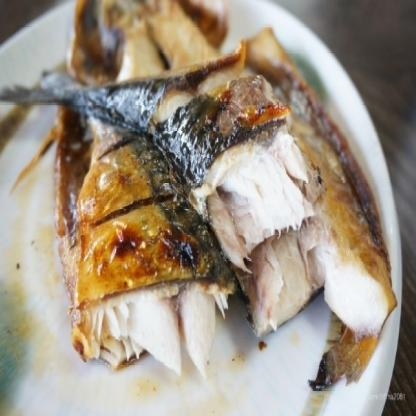Peixe: (0, 0, 387, 409)
